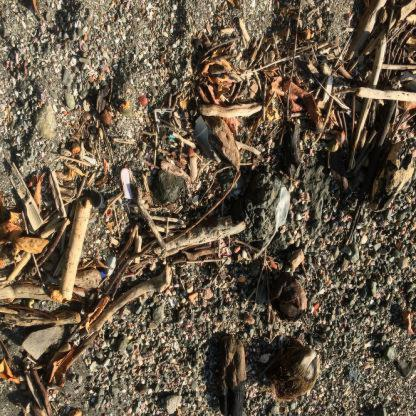Other plastic: (192, 115, 217, 160), (154, 109, 174, 134), (120, 168, 134, 199), (84, 156, 96, 165), (170, 134, 176, 139)
Plastic bag - wrapper: (256, 188, 291, 258)
Unlabeled litter: (92, 194, 107, 210)
